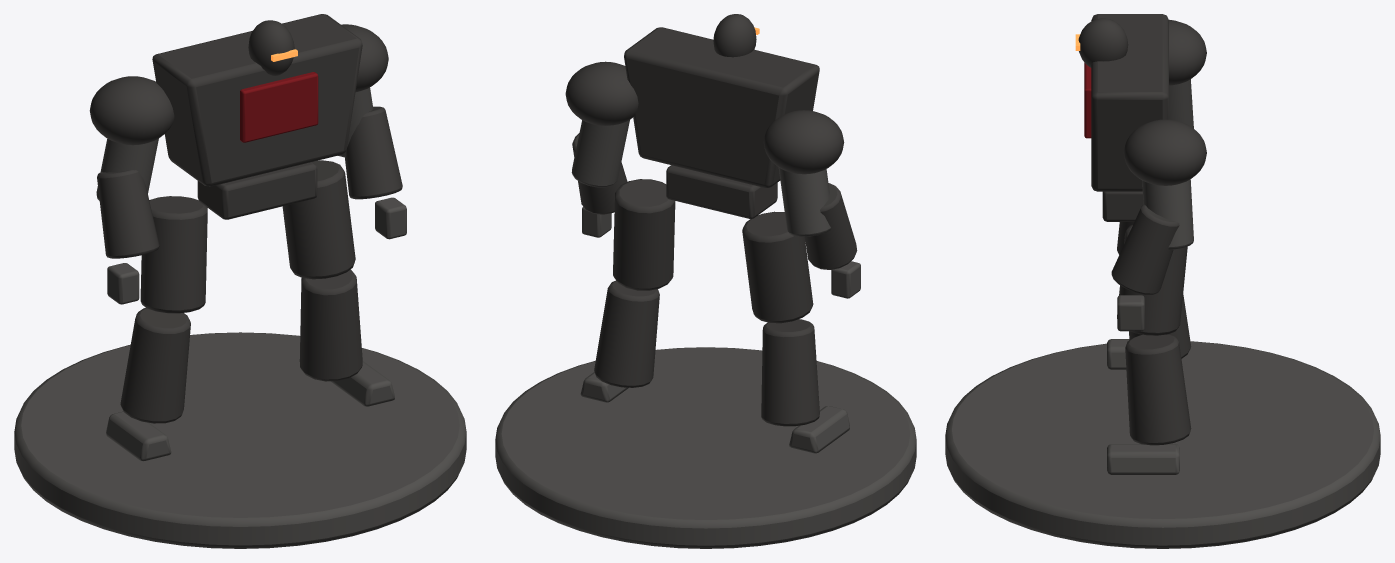
File: covenant_frame_sentinel.glb
3 views of the same model, side by side, from view 1: azimuth 30°, elevation 25°; view 2: azimuth 150°, elevation 25°; view 3: azimuth 270°, elevation 25° (orthographic). The views are drawn at different scales.
Parts seen in each view (by area): view 1: standin_base, t.002, standin_thigh_R, standin_shin_R, standin_thigh_L, standin_shin_L, standin_pauldron_R, standin_forearm_R, tp, standin_pelvis, standin_forearm_L, standin_foot_R (+7 smaller); view 2: standin_base, t.002, standin_thigh_L, standin_thigh_R, standin_shin_R, standin_shin_L, standin_pauldron_R, standin_pauldron_L, standin_pelvis, standin_arm_L, standin_arm_R, standin_forearm_R (+6 smaller); view 3: standin_base, t.002, standin_shin_L, standin_pauldron_L, standin_forearm_L, standin_thigh_L, standin_foot_L, standin_arm_L, standin_pauldron_R, h.002, standin_pelvis, standin_hand_L (+4 smaller).
Boxes of the visible parts, box(x1,y1,x2,y2) form: standin_base: box(14, 332, 466, 548); t.002: box(152, 14, 362, 186); standin_thigh_R: box(140, 196, 207, 313); standin_shin_R: box(120, 308, 190, 423); standin_thigh_L: box(282, 160, 355, 279); standin_shin_L: box(299, 269, 362, 381); standin_pauldron_R: box(89, 76, 174, 145); standin_forearm_R: box(97, 170, 159, 258); tp: box(240, 72, 318, 142); standin_pelvis: box(197, 162, 317, 219); standin_forearm_L: box(345, 106, 402, 199); standin_foot_R: box(106, 411, 171, 461); standin_base: box(495, 347, 916, 548); t.002: box(624, 27, 819, 187); standin_thigh_L: box(613, 179, 675, 290); standin_thigh_R: box(742, 211, 813, 323); standin_shin_R: box(761, 319, 819, 426); standin_shin_L: box(594, 280, 659, 387); standin_pauldron_R: box(763, 110, 844, 174); standin_pauldron_L: box(565, 61, 638, 125); standin_pelvis: box(666, 165, 777, 218); standin_arm_L: box(571, 120, 629, 187); standin_arm_R: box(778, 167, 830, 236); standin_forearm_R: box(804, 183, 857, 269); standin_base: box(945, 341, 1380, 548); t.002: box(1091, 14, 1168, 191); standin_shin_L: box(1125, 334, 1191, 445); standin_pauldron_L: box(1123, 119, 1206, 185); standin_forearm_L: box(1111, 204, 1179, 294); standin_thigh_L: box(1117, 224, 1187, 335); standin_foot_L: box(1107, 444, 1179, 474); standin_arm_L: box(1142, 179, 1193, 249); standin_pauldron_R: box(1169, 19, 1206, 85); h.002: box(1078, 18, 1128, 67); standin_pelvis: box(1102, 191, 1143, 221); standin_hand_L: box(1117, 295, 1144, 331).
Bounding box in the file's own units: 40 × 44.58 × 40.
